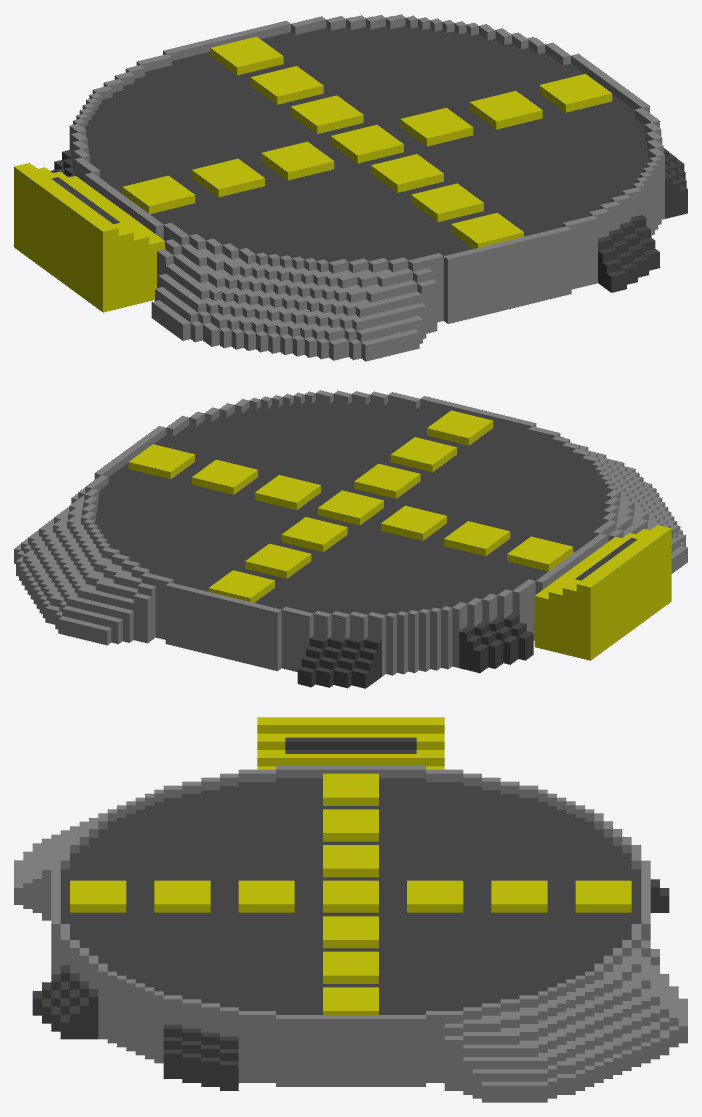
File: GDIHelicopterPad.obj
3 renders of one model, top to bottom at view 1: azimuth 30°, elevation 25°; view 2: azimuth 150°, elevation 25°; view 3: azimuth 270°, elevation 25°, orthographic. The views are drawn at different scales.
Size of the model in its own units: 7.6 by 1 by 7.2.
Materials: 1 (1 with a texture image).
